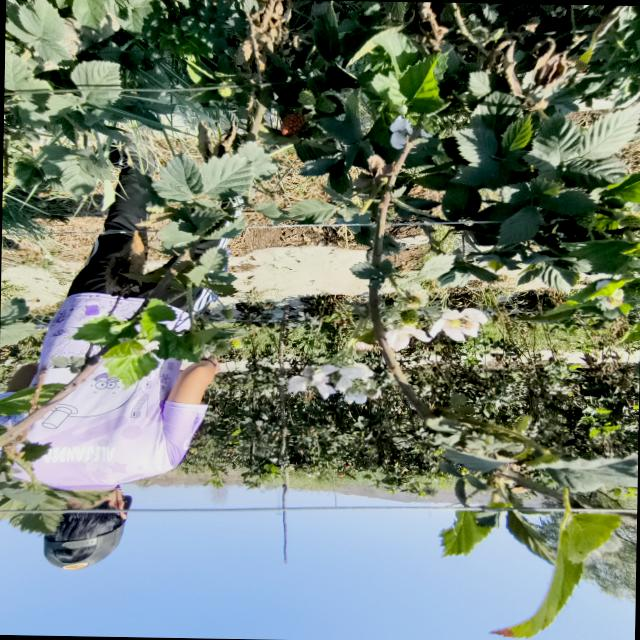flor: (430, 307, 488, 341), (385, 323, 431, 351), (338, 363, 373, 384), (287, 375, 308, 392), (337, 382, 350, 391)
